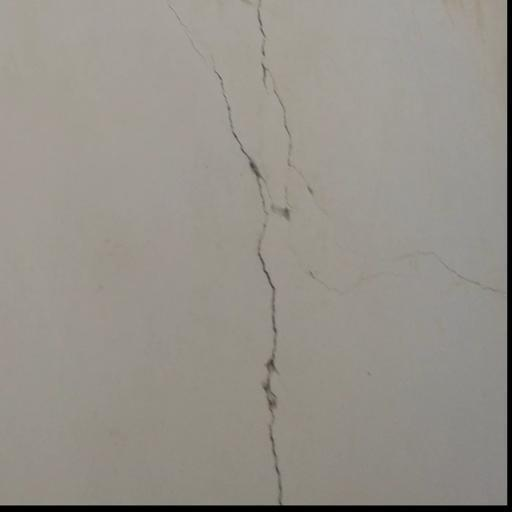minor_crack: (164, 1, 336, 504)
